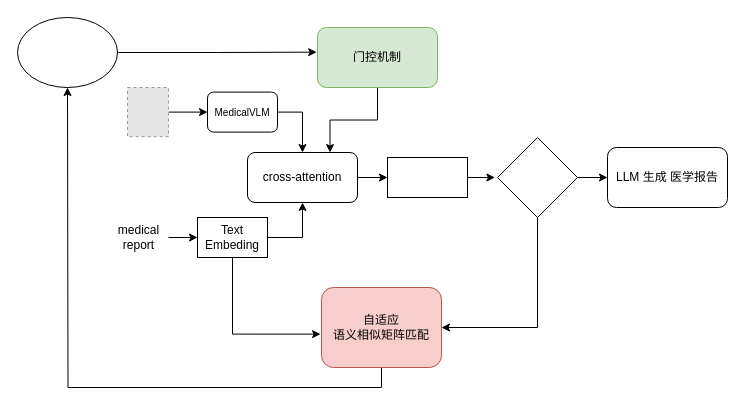
Some shapes in this 745 by 413 pixel diagram are drawn without their labels. Grey dashed boxes stand in for pictures. Here are the shapes that lost their labels. From the top down, the centre of each, then its label:
At (x=67, y=52): "weights".
At (x=427, y=177): "Linear Transformation".
At (x=537, y=177): "融合后数据向量".
